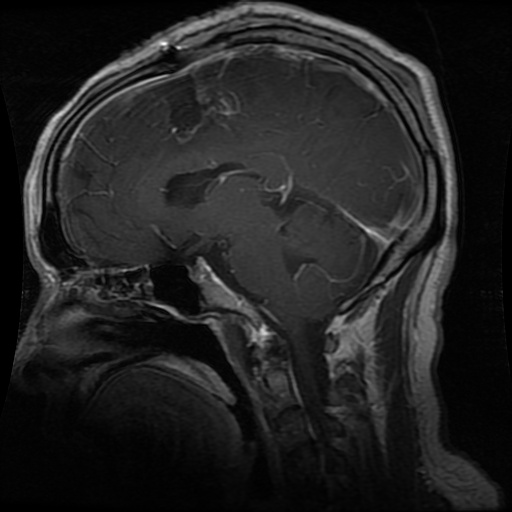glioma: (147, 69, 214, 141)
